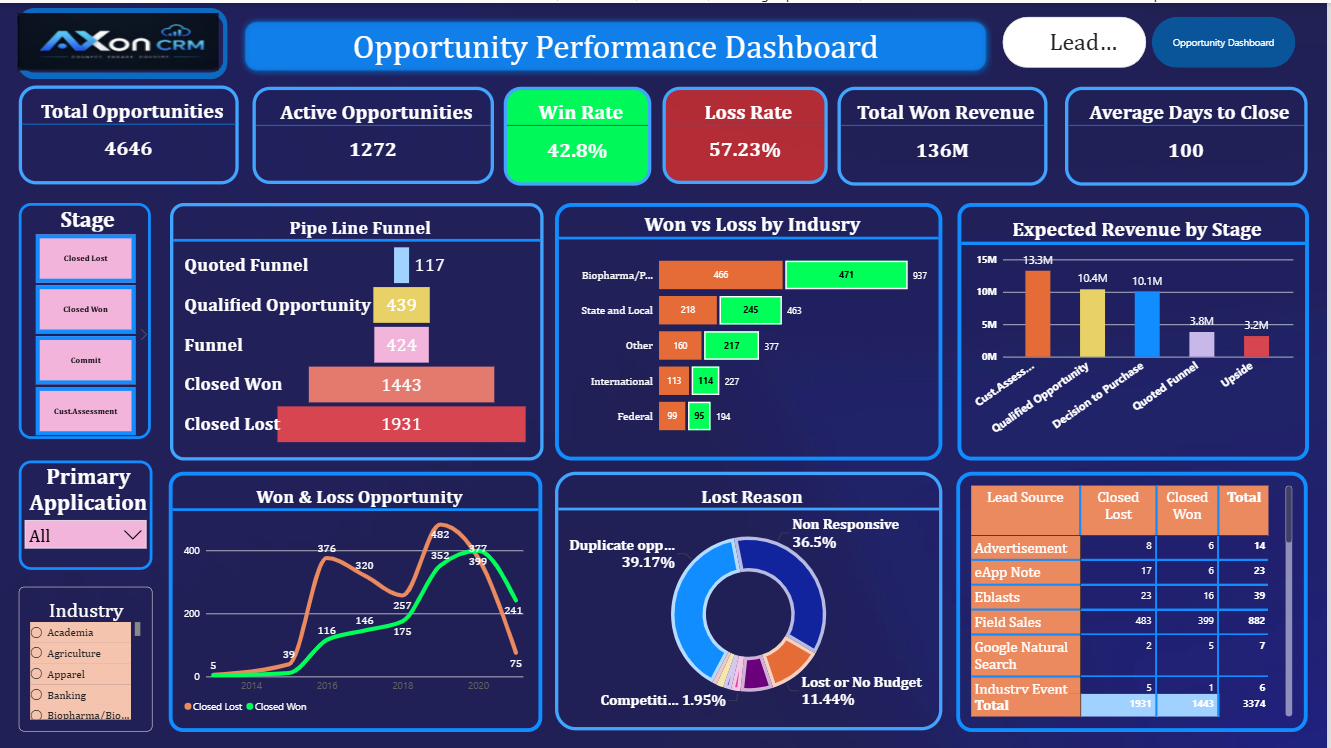

This screenshot's page, from the dashboard's own definition file:
{"tool":"powerbi","page":{"name":"Opportunity Dashboard","canvas":[1920,1080],"ordinal":1},"visuals":[{"type":"card","title":"Total Opportunities","fields":{"Values":["CountNonNull(Opportunity.Opportunity ID)"]},"box":[27.1,119.4,318.5,143],"z":0},{"type":"shape","box":[25.3,7.2,304,99.5],"z":1000,"group":"g1"},{"type":"card","title":"Total Won Revenue","fields":{"Values":["Opportunity.Won Amount"]},"box":[1212.5,121.2,304,143],"z":1000},{"type":"shape","box":[25.3,10.9,304,99.5],"z":2000},{"type":"image","box":[25.3,14.4,291.4,83.2],"z":3000,"group":"g1"},{"type":"funnel","title":"Pipe Line Funnel","fields":{"Category":["Opportunity.Stage"],"Y":["CountNonNull(Opportunity.Opportunity ID)"]},"box":[246.1,289.5,541.1,372.8],"z":3000},{"type":"shape","box":[345.6,18.1,1091.2,88.7],"z":4000},{"type":"card","title":"Loss Rate","fields":{"Values":["Account.Loss %"]},"box":[959.1,121.2,238.9,141.2],"z":5000},{"type":"card","title":"Win Rate","fields":{"Values":["Account.Won %"]},"box":[729.3,121.2,213.5,143],"z":6000},{"type":"card","title":"Active Opportunities","fields":{"Values":["Account.Open"]},"box":[365.6,121.2,349.3,141.2],"z":7000},{"type":"card","title":"Average Days to Close","fields":{"Values":["Account.Average Days to Close"]},"box":[1541.8,121.2,351.1,143],"z":8000},{"type":"lineChart","title":"Won & Loss Opportunity","fields":{"Category":["Opportunity.Created Date.Variation.Date Hierarchy.Year"],"Series":["Opportunity.Stage"],"Y":["CountNonNull(Opportunity.Opportunity ID)"]},"box":[244.3,678.6,541.1,376.4],"z":9000},{"type":"barChart","title":"Won vs Loss by Indusry","fields":{"Category":["Opportunity.Industry"],"Series":["Opportunity.Stage"],"Y":["CountNonNull(Opportunity.Opportunity ID)"]},"box":[803.5,289.5,561,372.8],"z":10000},{"type":"donutChart","title":"Lost Reason","fields":{"Category":["Opportunity.Closed Lost Reason"],"Y":["CountNonNull(Opportunity.Opportunity ID)"]},"box":[803.5,678.6,561,374.6],"z":11000},{"type":"clusteredColumnChart","title":"Expected Revenue by Stage","fields":{"Category":["Opportunity.Stage"],"Y":["Sum(Opportunity.Expected Amount)"]},"box":[1386.2,289.5,508.5,372.8],"z":12000},{"type":"pivotTable","fields":{"Columns":["Opportunity.Stage"],"Rows":["Opportunity.Lead Source"],"Values":["CountNonNull(Opportunity.Opportunity ID)"]},"box":[1385.3,679.2,508.4,376.7],"z":13000},{"type":"pageNavigator","box":[1451.3,19.9,425.3,74.2],"z":14000},{"type":"group","id":"g1","title":"Group 1","box":[25.3,7.2,304,99.5],"z":15000},{"type":"slicer","title":"Stage","fields":{"Values":["Opportunity.Stage"]},"box":[26.8,290.2,191.4,341.7],"z":16000},{"type":"slicer","title":"Primary Application","fields":{"Values":["Opportunity.Primary Application"]},"box":[26.8,662.8,193.5,158.5],"z":17000},{"type":"listSlicer","fields":{"Values":["Opportunity.Industry"]},"box":[26.8,846,193.5,209.9],"z":18000}]}

Visuals, with their boxes in screenshot pixels (x1, y1, x2, y2), scaled from the page's 1920x1080 canvas onto the 1331x748 screenshot:
"Total Opportunities" card: [19, 83, 240, 182]
shape: [18, 5, 228, 74]
"Total Won Revenue" card: [841, 84, 1051, 183]
shape: [18, 8, 228, 76]
image: [18, 10, 220, 68]
"Pipe Line Funnel" funnel: [171, 201, 546, 459]
shape: [240, 13, 996, 74]
"Loss Rate" card: [665, 84, 830, 182]
"Win Rate" card: [506, 84, 654, 183]
"Active Opportunities" card: [253, 84, 496, 182]
"Average Days to Close" card: [1069, 84, 1312, 183]
"Won & Loss Opportunity" lineChart: [169, 470, 544, 731]
"Won vs Loss by Indusry" barChart: [557, 201, 946, 459]
"Lost Reason" donutChart: [557, 470, 946, 729]
"Expected Revenue by Stage" clusteredColumnChart: [961, 201, 1313, 459]
pivotTable - Opportunity.Stage x Opportunity.Lead Source: [960, 470, 1313, 731]
pageNavigator: [1006, 14, 1301, 65]
"Group 1" group: [18, 5, 228, 74]
"Stage" slicer: [19, 201, 151, 438]
"Primary Application" slicer: [19, 459, 153, 569]
listSlicer - Opportunity.Industry: [19, 586, 153, 731]
